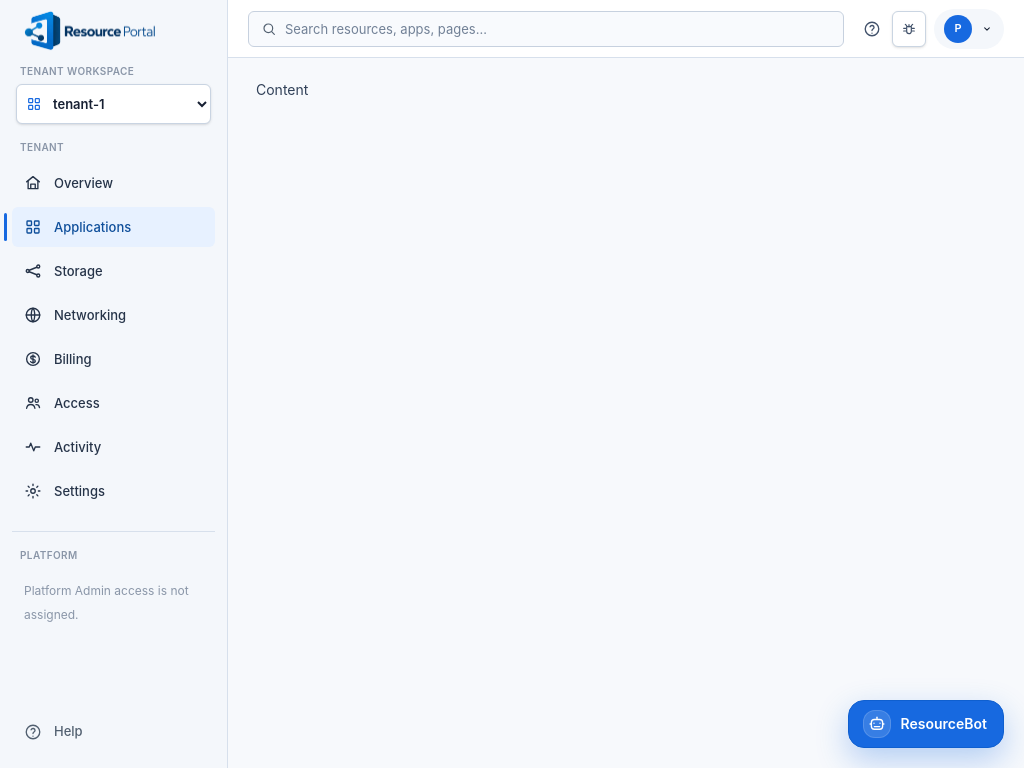
Test case: AppShell › submits a bug report from the topbar dialog
Click the button named "Report a bug" at [909, 28], box [892,10,926,46]
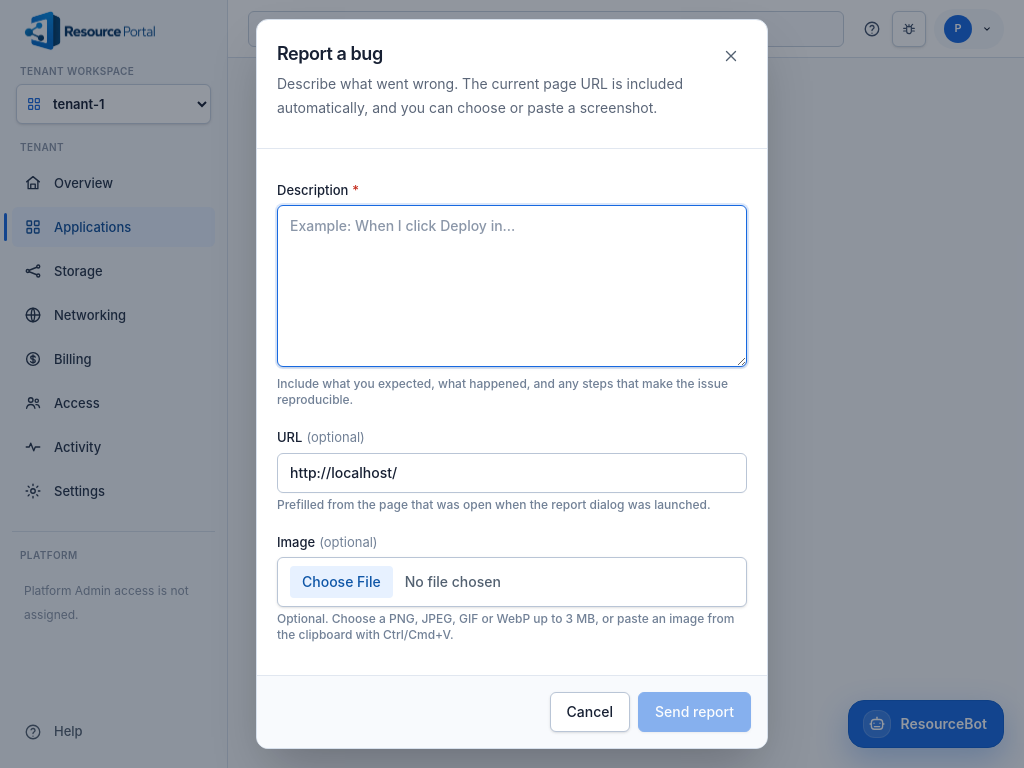
Expected: the dialog "Report a bug" is shown, [256,19,768,749]
Type "Deploy button returns an error." into the text box named "Bug description" at [512, 286], box [277,205,747,367]
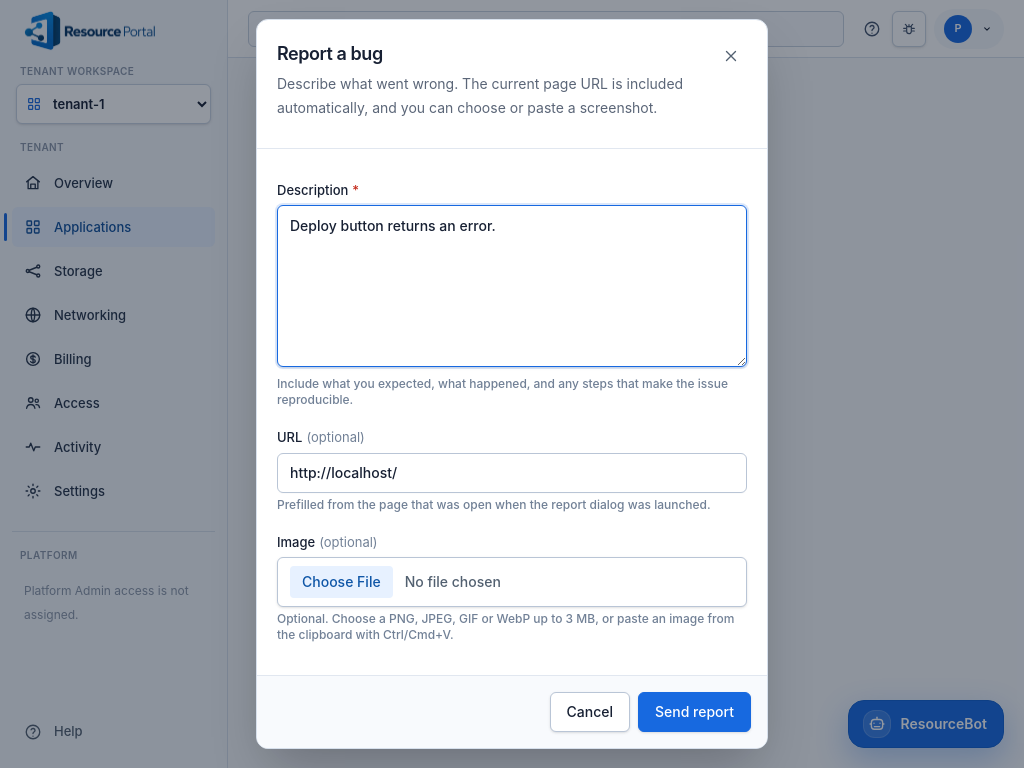
Click the button "Send report" at [694, 712], box [638,692,751,732]
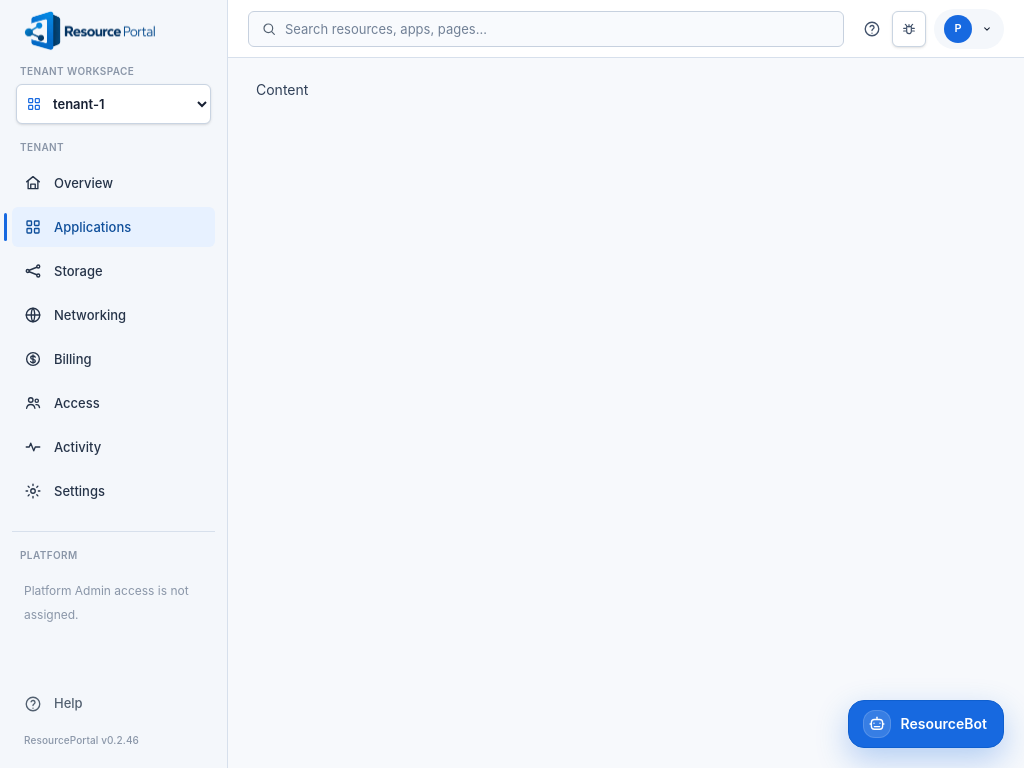
Expected: the heading "Report a bug" is gone
